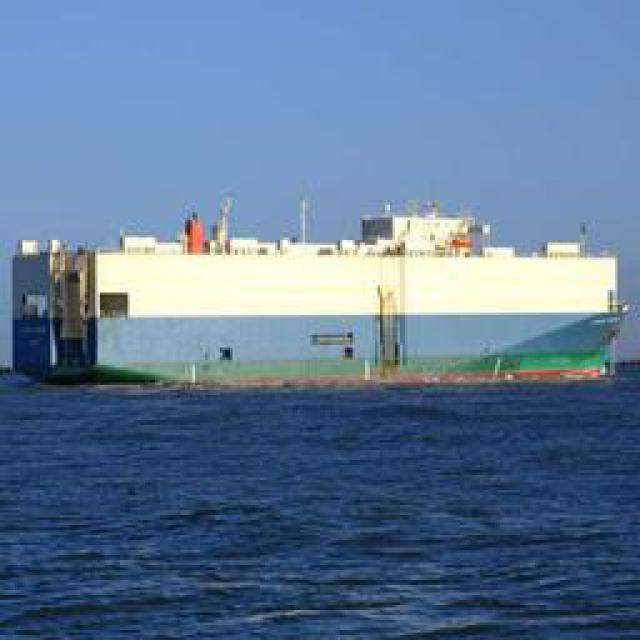Ship: (7, 189, 625, 389)
